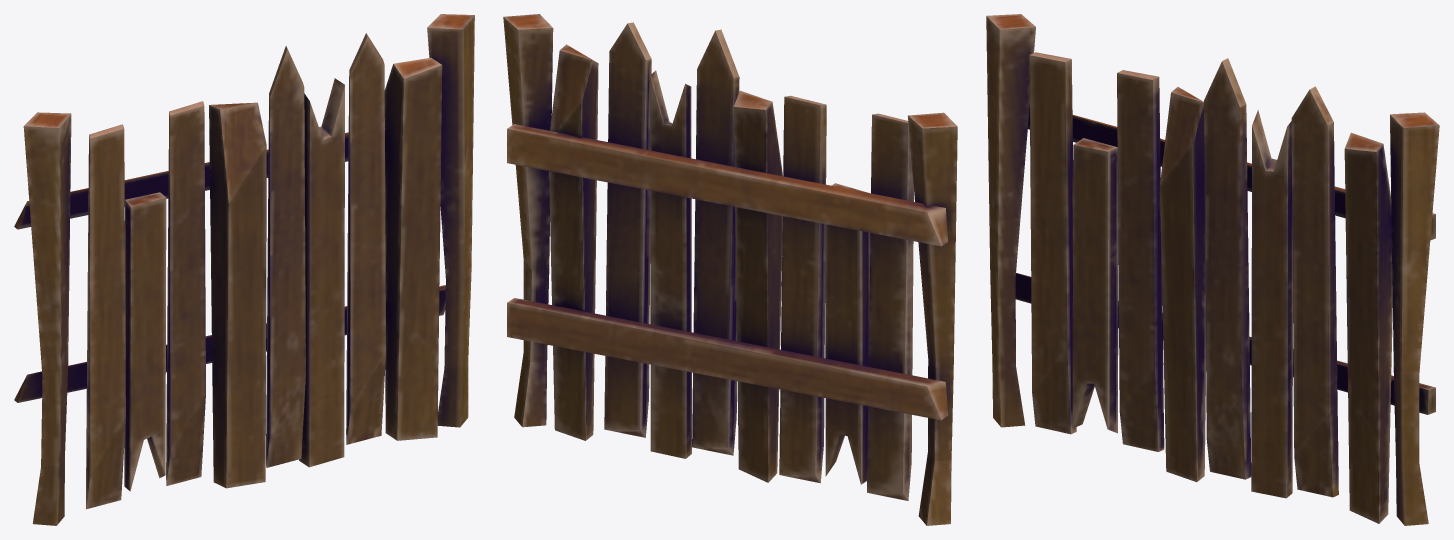
The model's file is Fence_Plank1.fbx.
3 renders of one model, left to right at view 1: azimuth 30°, elevation 25°; view 2: azimuth 150°, elevation 25°; view 3: azimuth 330°, elevation 25°, orthographic.
Visible parts, largest first — view 1: EA03_Fence_Plank_01a_LOD0; view 2: EA03_Fence_Plank_01a_LOD0; view 3: EA03_Fence_Plank_01a_LOD0.
Boxes of the visible parts, bbox=[...] form: EA03_Fence_Plank_01a_LOD0: bbox=[14, 14, 474, 525]; EA03_Fence_Plank_01a_LOD0: bbox=[503, 14, 957, 525]; EA03_Fence_Plank_01a_LOD0: bbox=[986, 14, 1439, 525].
Size of the model in its own units: 3.11 by 0.4248 by 2.81.
Materials: 1 (1 with a texture image).
